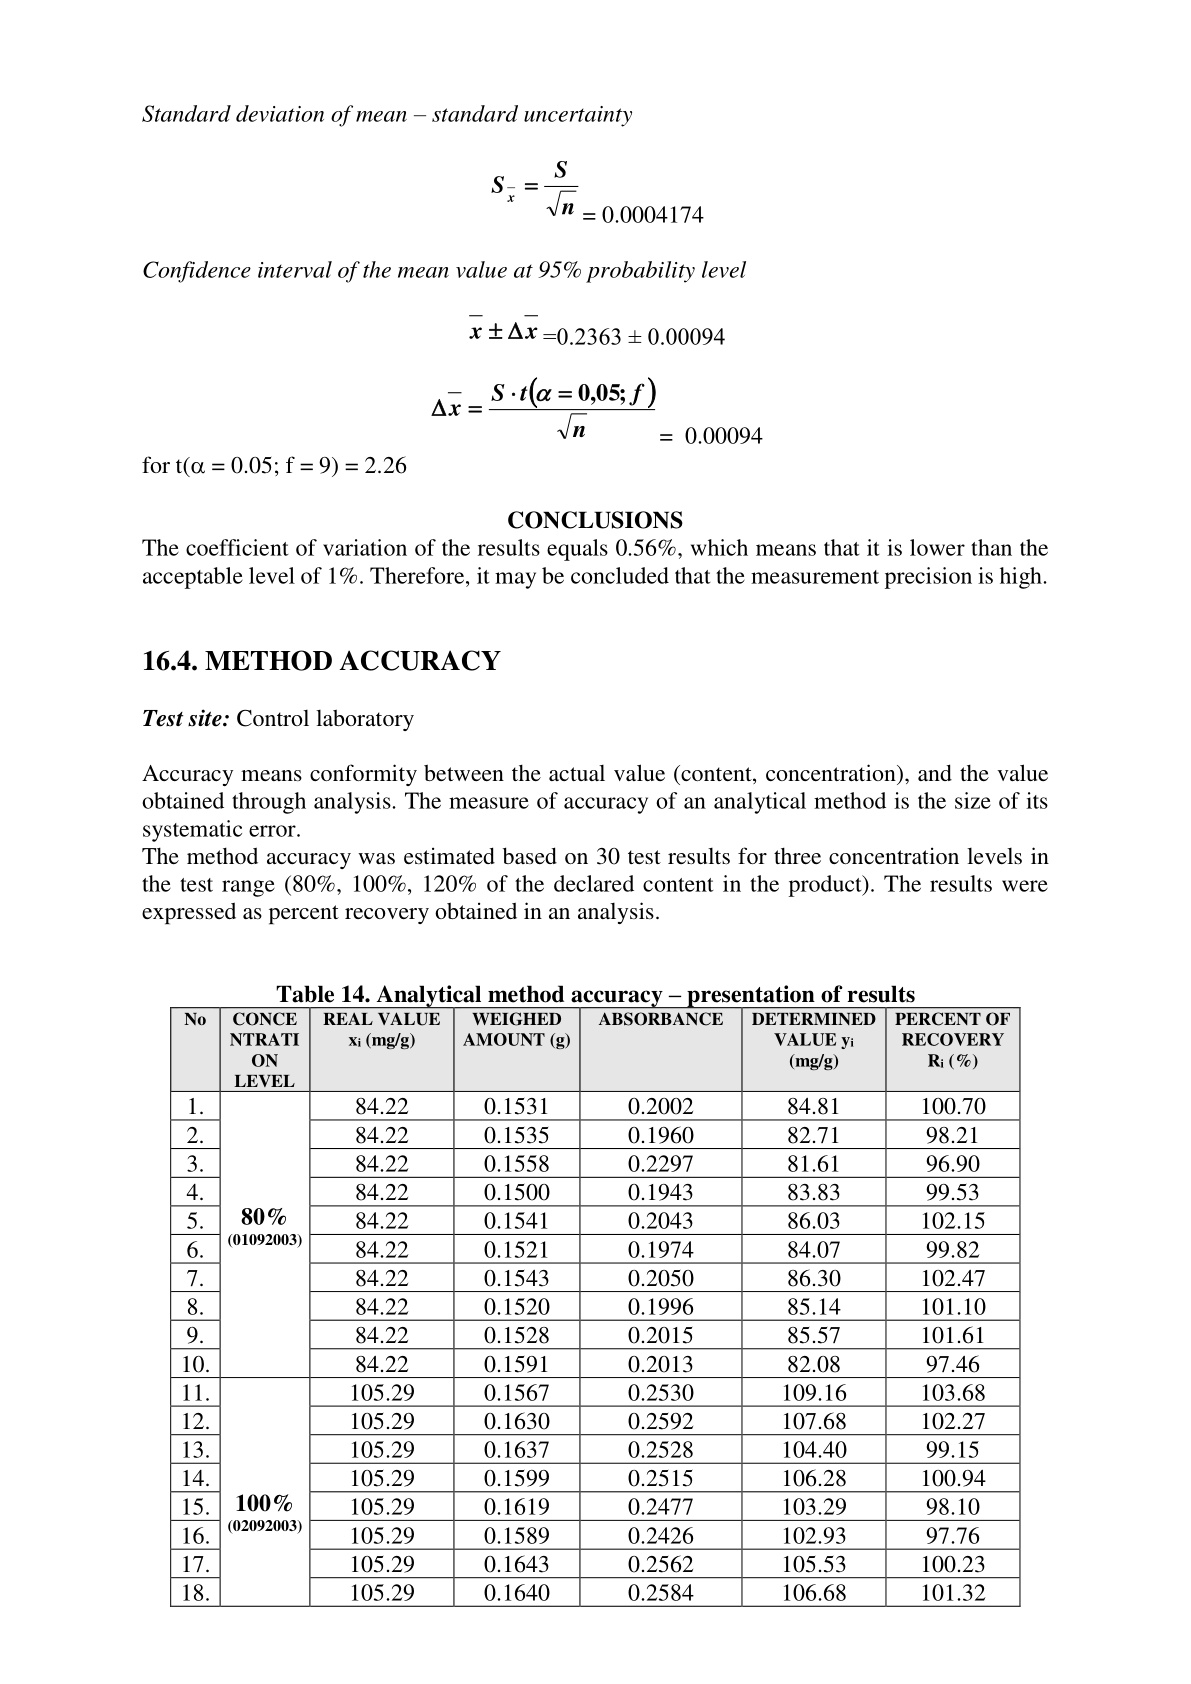merged_cells: (168, 1006, 1021, 1608)
